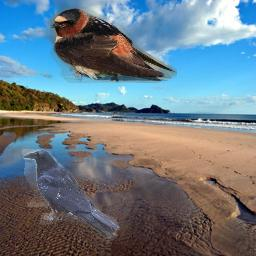Crow: (22, 149, 120, 241)
Swallow: (50, 7, 177, 83)
